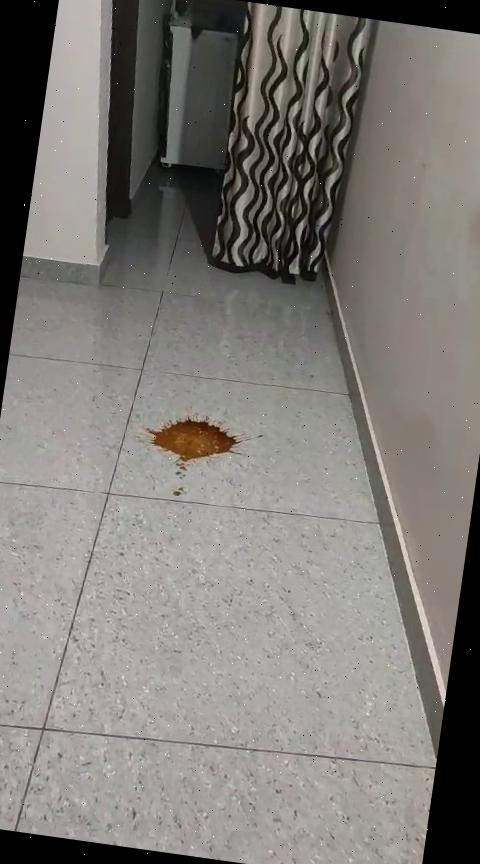dirty_floor: (125, 393, 260, 508)
